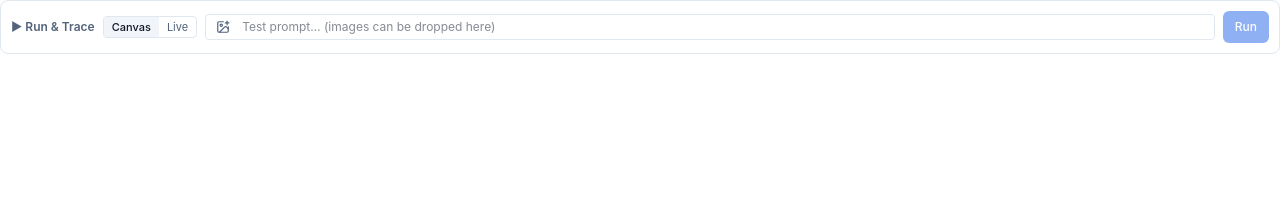
Test case: FlowRunDrawer › a manual toggle from the previous run does not suppress auto-collapse in the next run
This screenshot has width=1280, height=202.
Type "hi" into the field labelled "Test prompt".
click(723, 27); type("hi")  # box [238, 15, 1208, 39]
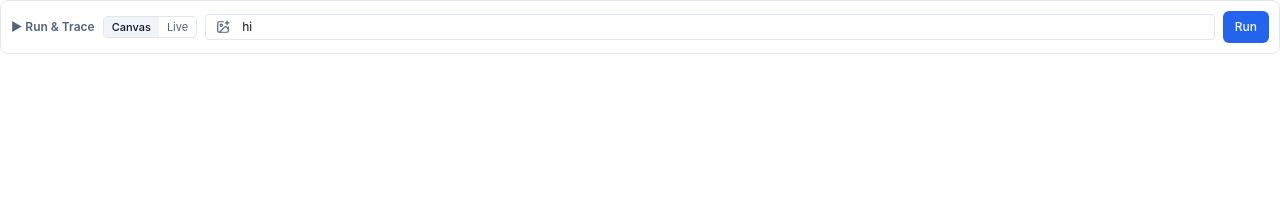
Click the button "Run".
click(1246, 27)  # box [1223, 11, 1269, 43]
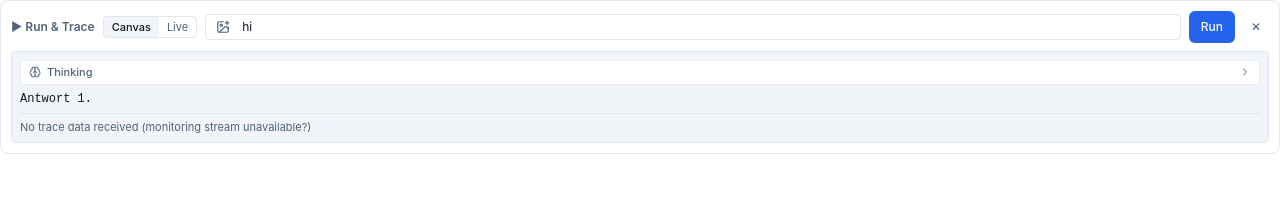
Expected: the text "Antwort 1." is shown, [20, 92, 92, 106]
Note: Open the trail by hand — this marks the run as user-toggled.
Click the button "Thinking".
click(70, 72)  # box [21, 61, 1259, 84]
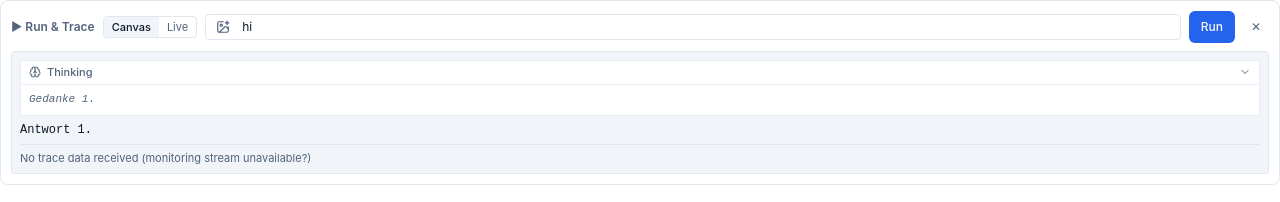
Expected: the text "Gedanke 1." is shown, [21, 84, 1259, 115]
Click the button "Run".
click(1212, 27)  # box [1189, 11, 1235, 43]
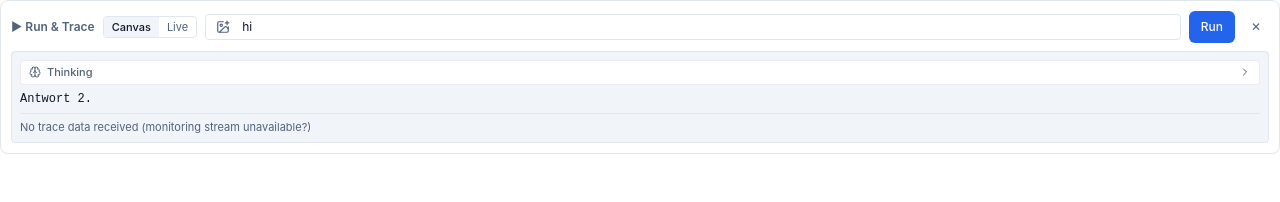
Expected: the text "Gedanke 2." is not shown
Expected: the text "Antwort 2." is shown, [20, 92, 92, 106]
Click the button "Thinking".
click(70, 72)  # box [21, 61, 1259, 84]
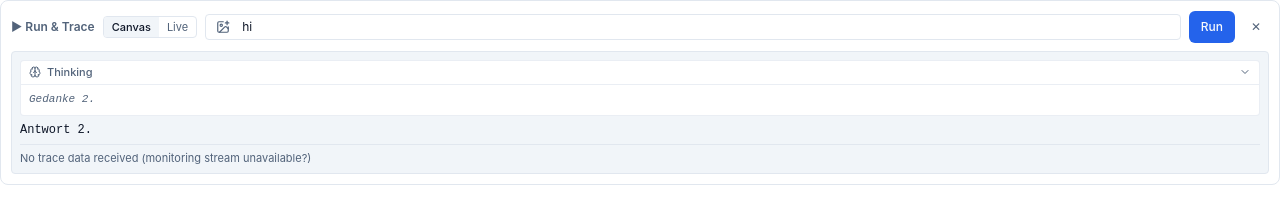
Expected: the text "Gedanke 1." is not shown
Expected: the text "Gedanke 2." is shown, [21, 84, 1259, 115]
